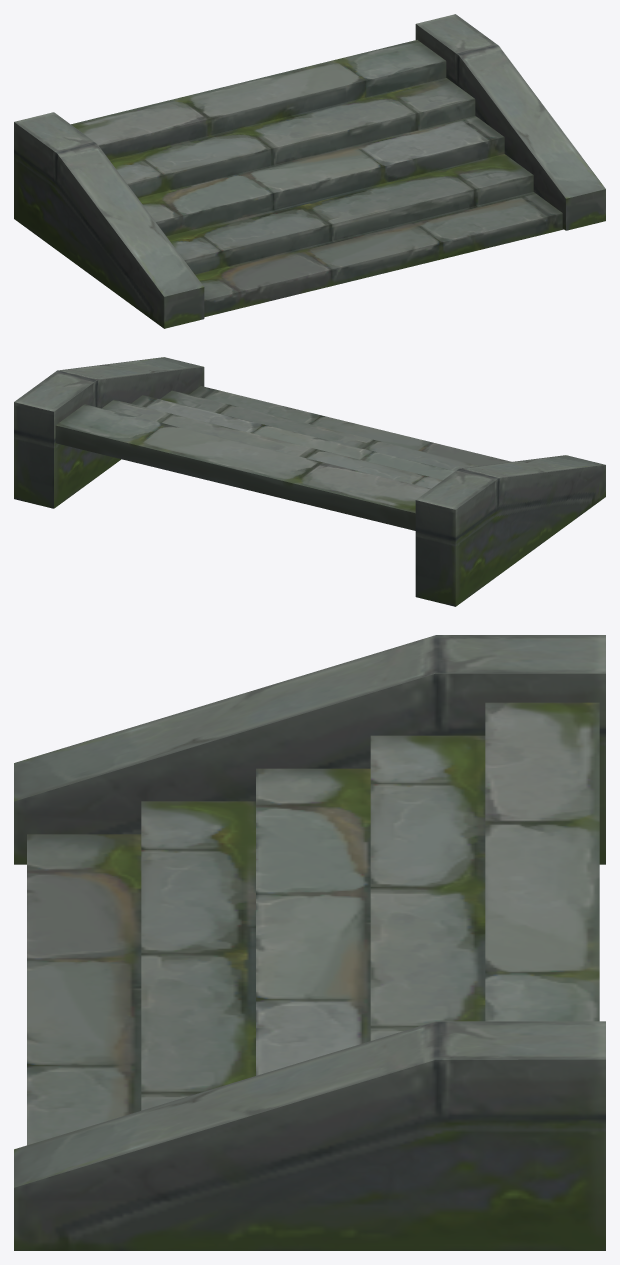
The model's file is scene_shenmisenlin_louti01.FBX.
3 views of the same model, one above another, from view 1: azimuth 30°, elevation 25°; view 2: azimuth 150°, elevation 25°; view 3: azimuth 270°, elevation 25° (orthographic). The views are drawn at different scales.
Parts seen in each view (by area): view 1: scene_shenmisenlin_louti01; view 2: scene_shenmisenlin_louti01; view 3: scene_shenmisenlin_louti01.
Boxes of the visible parts, bbox=[...] form: scene_shenmisenlin_louti01: bbox=[14, 14, 605, 328]; scene_shenmisenlin_louti01: bbox=[14, 357, 605, 606]; scene_shenmisenlin_louti01: bbox=[14, 635, 605, 1250].
Size of the model in its own units: 562 by 120 by 331.
